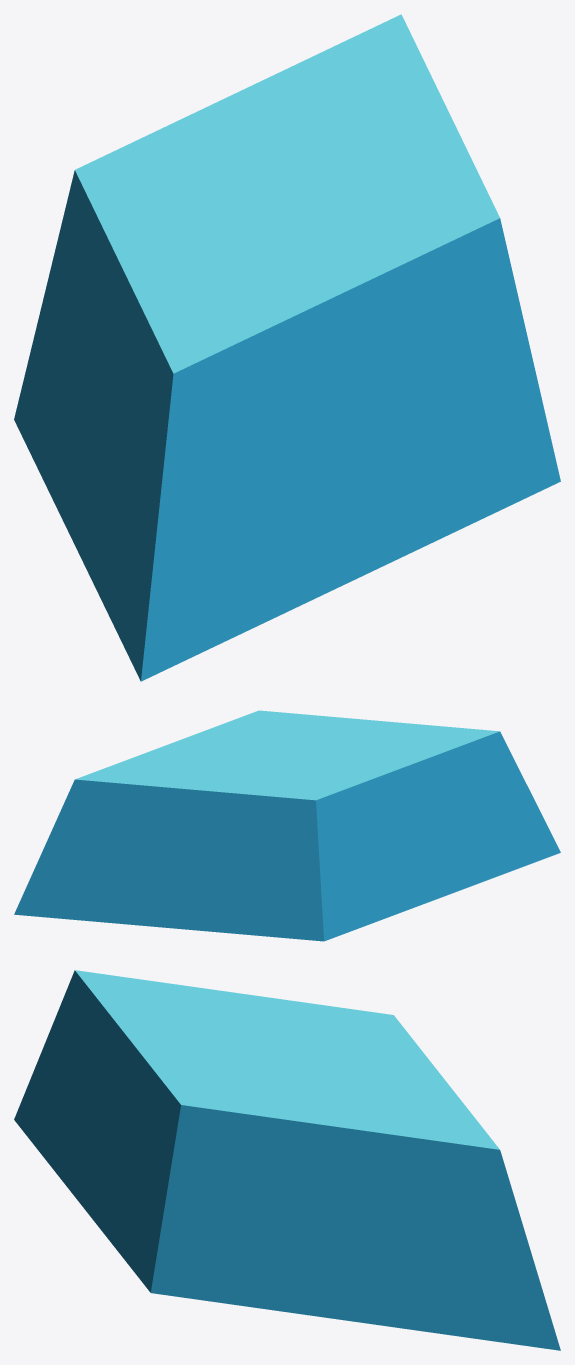
Rendered from DiamondBar.fbx.
The picture shows the model from 3 angles, top to bottom: view 1: azimuth 30°, elevation 25°; view 2: azimuth 150°, elevation 25°; view 3: azimuth 270°, elevation 25°; orthographic projection. The views are drawn at different scales.
Visible parts, largest first — view 1: DiamondBar; view 2: DiamondBar; view 3: DiamondBar.
Boxes of the visible parts, <box> form: DiamondBar: <box>14,14,560,681</box>; DiamondBar: <box>14,710,560,941</box>; DiamondBar: <box>14,970,560,1350</box>.
Size of the model in its own units: 1.27 by 0.45 by 1.27.
1 material, 1 textured.
